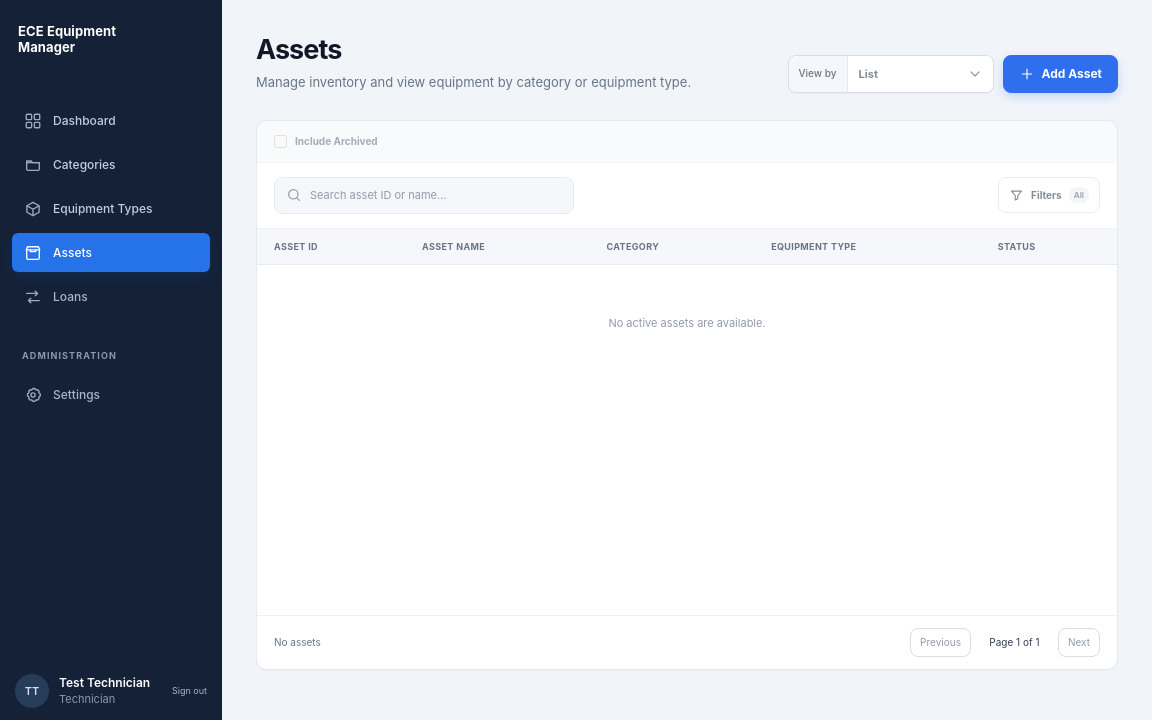
Test: Login and session flow › ends the session and redirects on logout
Click the button "Sign out".
click(190, 691)  # box [172,675,207,707]
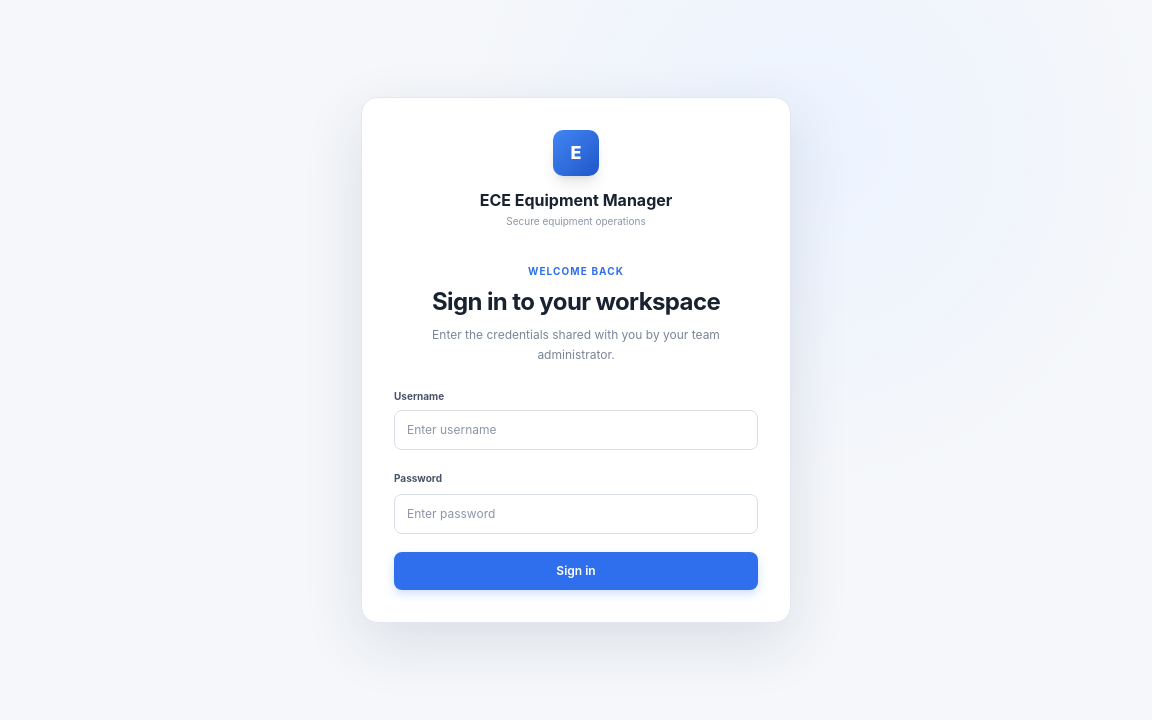
Now the field labelled "Username" is shown, box [394,410,758,450]
Now the navigation bar is gone
